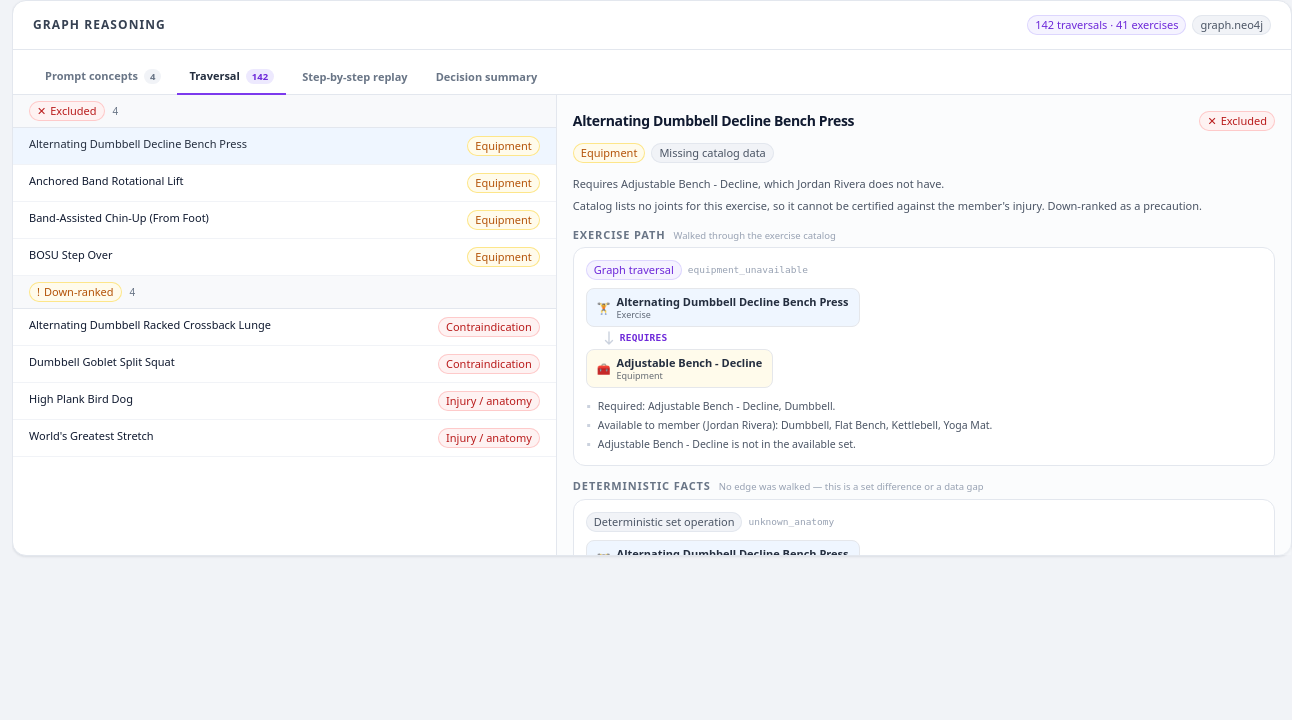
Test: Traversal tab selection › shows a grouped decision panel for the selected exercise
Click the button "Alternating Dumbbell Decline Bench Press Equipment".
click(138, 144)  # box [13,128,556,165]
(page scrolled)
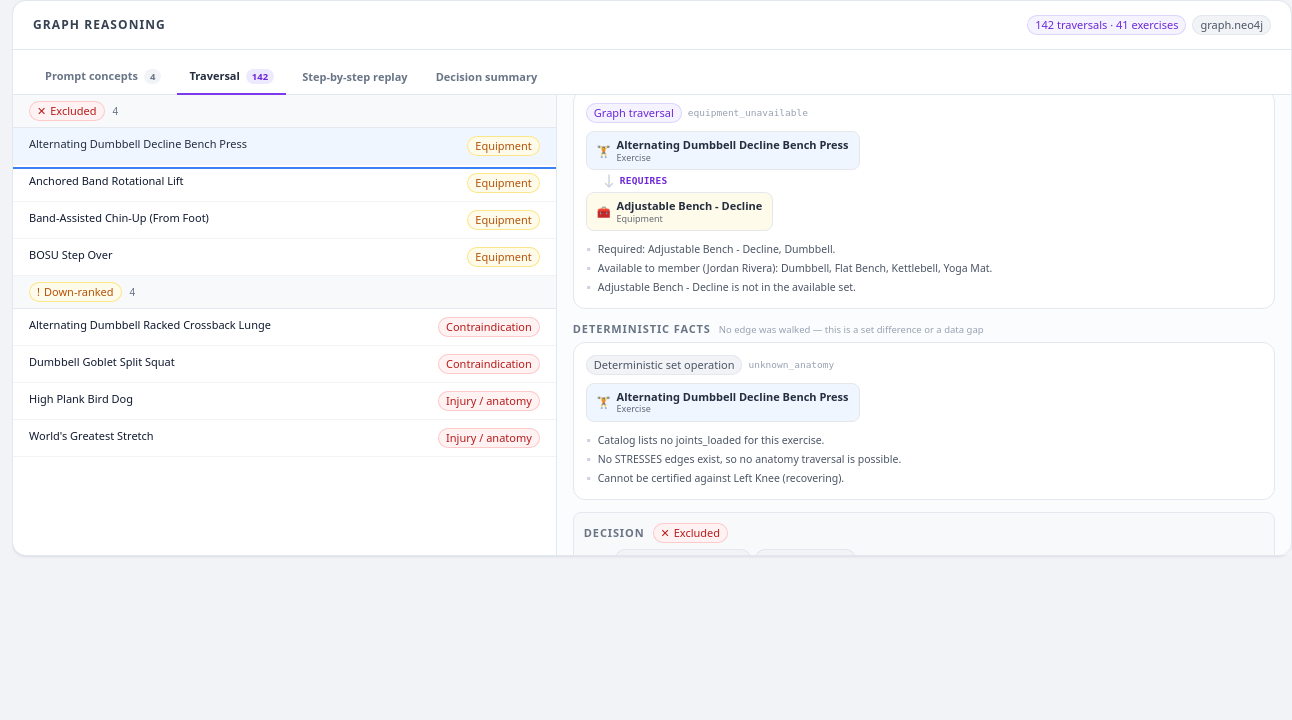
Expected: the element named "Decision paths" is shown, [573,95,1275,555]
Now the text "Decision" is shown, box [584,525,644,541]
